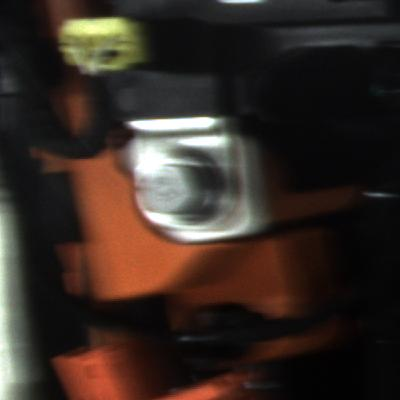nut_b: (139, 149, 232, 229)
